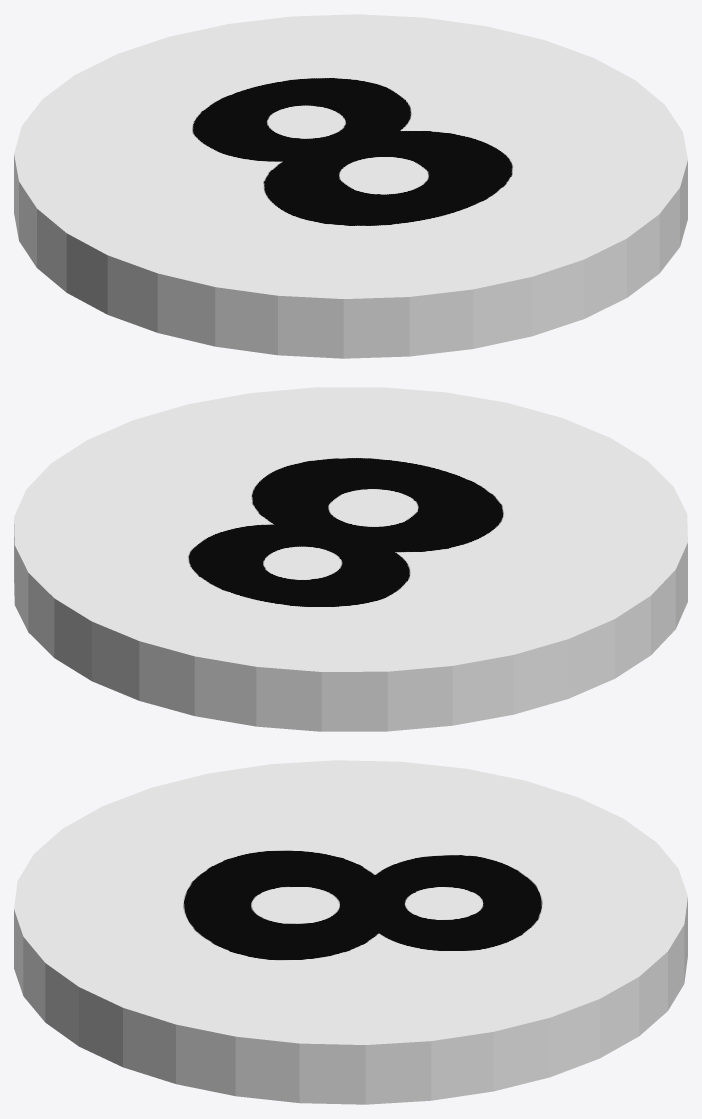
File: Delapan.fbx
The picture shows the model from 3 angles, top to bottom: view 1: azimuth 30°, elevation 25°; view 2: azimuth 150°, elevation 25°; view 3: azimuth 270°, elevation 25°; orthographic projection.
Parts seen in each view (by area): view 1: Cylinder; view 2: Cylinder; view 3: Cylinder.
Boxes of the visible parts, x1,y1,x2,y2 form: Cylinder: (14,14,687,358); Cylinder: (14,387,687,731); Cylinder: (14,760,687,1104).
Bounding box in the file's own units: 243 × 23.72 × 243.
